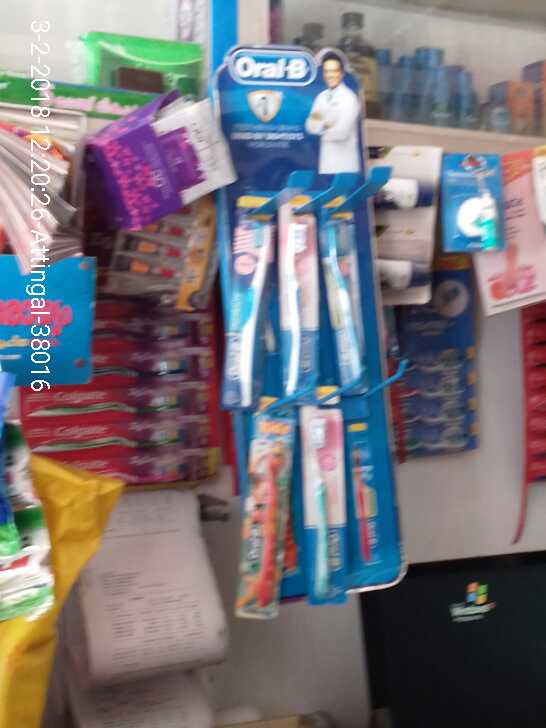oralb: (216, 194, 271, 407), (231, 413, 281, 618), (299, 408, 346, 601), (275, 193, 318, 401), (320, 207, 367, 382)
